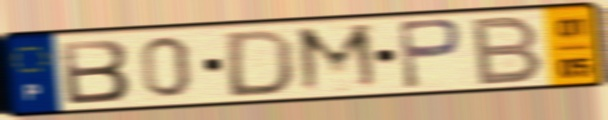0: (135, 33, 199, 101)
B: (470, 12, 547, 88), (56, 36, 133, 107)
D: (223, 26, 298, 99)
M: (293, 21, 386, 97)
P: (394, 15, 467, 91)
